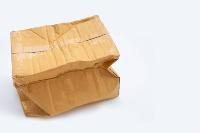undamaged: (6, 12, 123, 121)
